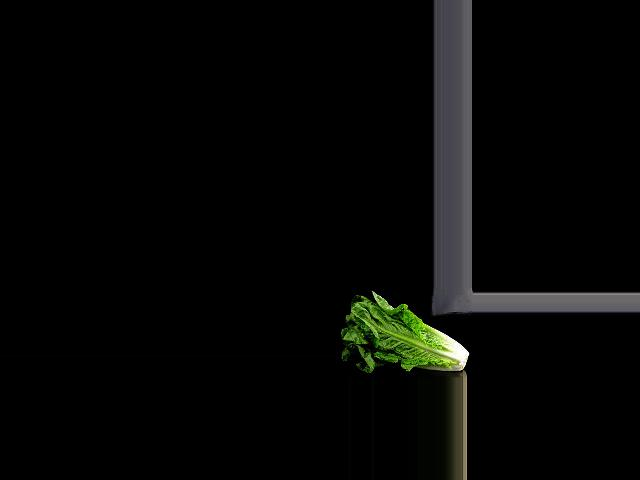lettuce: (338, 291, 470, 373)
